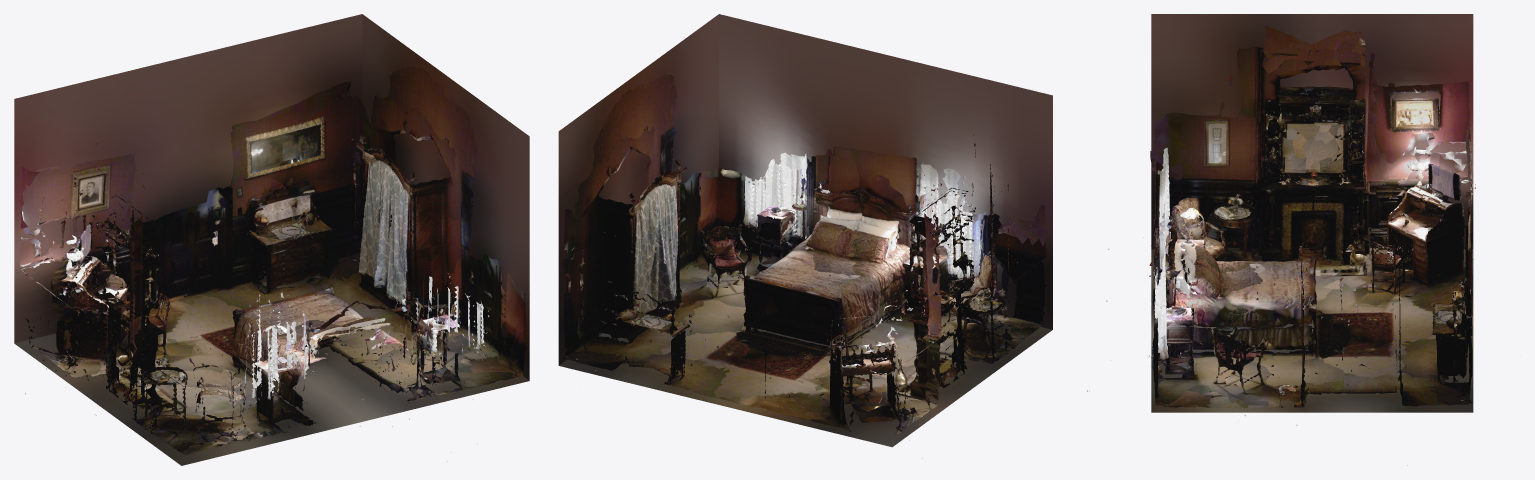
Rendered from bedroom.glb.
3 views of the same model, side by side, from view 1: azimuth 30°, elevation 25°; view 2: azimuth 150°, elevation 25°; view 3: azimuth 270°, elevation 25° (orthographic). The views are drawn at different scales.
Parts seen in each view (by area): view 1: Redwood Bedroom, Inferred wall, floor and ceiling envelope; view 2: Redwood Bedroom, Inferred wall, floor and ceiling envelope; view 3: Redwood Bedroom, Inferred wall, floor and ceiling envelope.
Boxes of the visible parts, x1=… form: Redwood Bedroom: x1=17, y1=66, x2=526, y2=461; Inferred wall, floor and ceiling envelope: x1=14, y1=14, x2=529, y2=465; Redwood Bedroom: x1=560, y1=74, x2=1048, y2=458; Inferred wall, floor and ceiling envelope: x1=558, y1=14, x2=1052, y2=447; Redwood Bedroom: x1=1087, y1=25, x2=1475, y2=465; Inferred wall, floor and ceiling envelope: x1=1151, y1=14, x2=1473, y2=412.
Size of the model in its own units: 6.92 by 4.95 by 6.44.
Materials: 10 (3 with a texture image).
